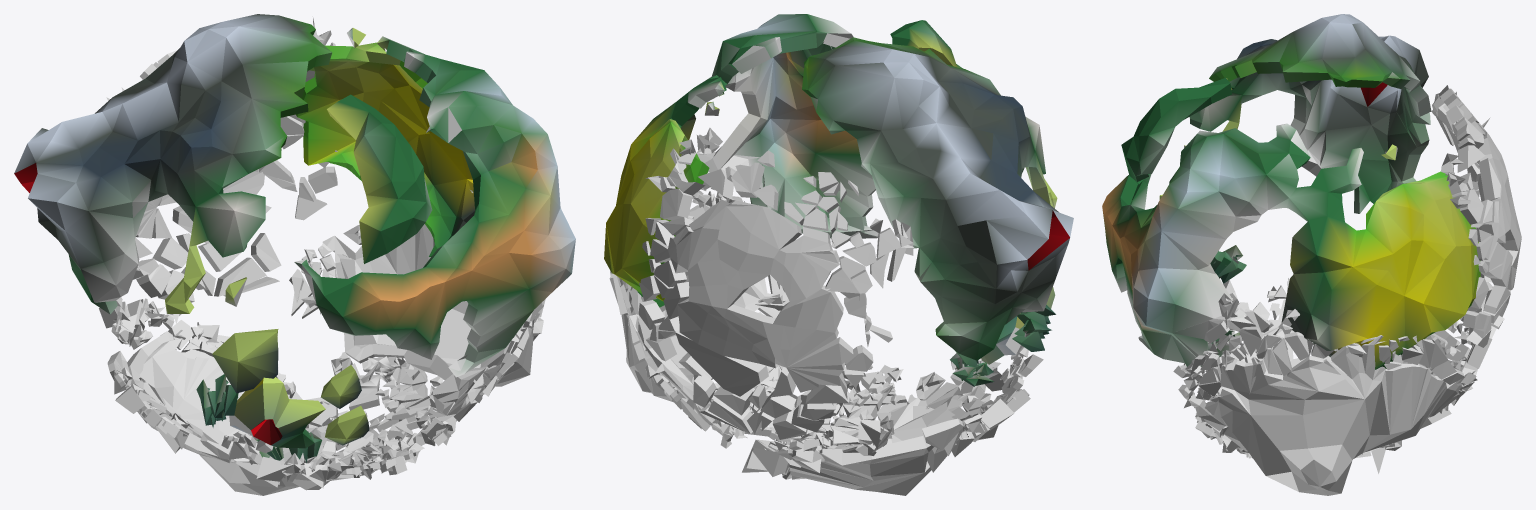
File: Planet_Lava_000.fbx
3 renders of one model, left to right at view 1: azimuth 30°, elevation 25°; view 2: azimuth 150°, elevation 25°; view 3: azimuth 270°, elevation 25°, orthographic. The views are drawn at different scales.
Parts seen in each view (by area): view 1: Tarmac; view 2: Tarmac; view 3: Tarmac.
Boxes of the visible parts, left/top/right/bottom form: Tarmac: left=14, top=14, right=575, bottom=495; Tarmac: left=604, top=14, right=1073, bottom=495; Tarmac: left=1102, top=14, right=1521, bottom=495.
Bounding box in the file's own units: 89246 × 81202 × 75422.
